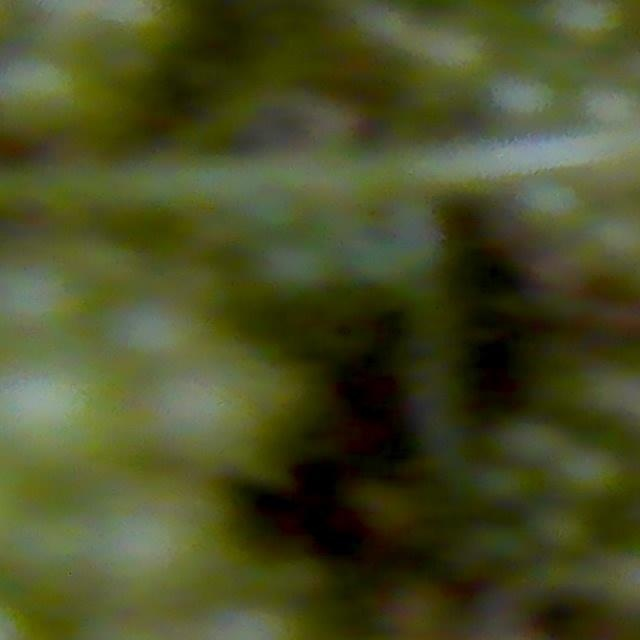SeaGrape: (133, 350, 287, 475), (0, 353, 125, 474), (112, 470, 216, 595), (0, 237, 104, 341), (21, 495, 104, 599), (108, 283, 212, 366), (0, 43, 94, 125), (204, 574, 304, 640), (513, 174, 588, 256), (91, 0, 176, 68), (552, 439, 629, 509), (479, 68, 561, 132), (579, 198, 640, 281), (532, 503, 595, 562), (564, 83, 637, 131)
